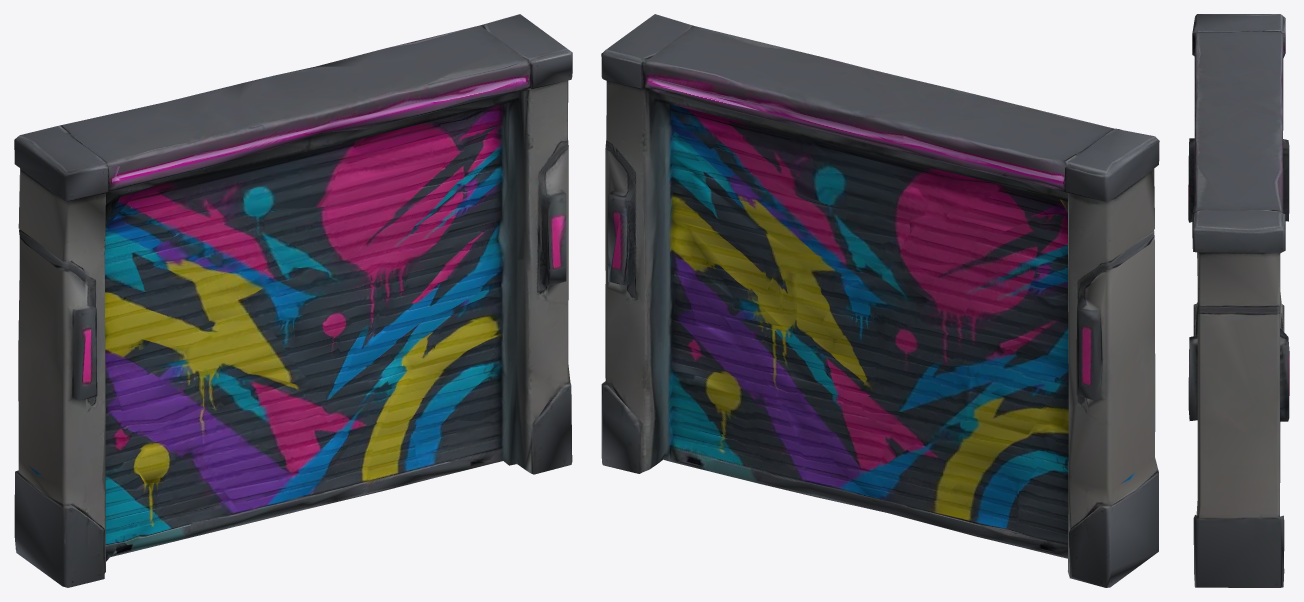
Rendered from env-shutter.glb.
3 renders of one model, left to right at view 1: azimuth 30°, elevation 25°; view 2: azimuth 150°, elevation 25°; view 3: azimuth 270°, elevation 25°, orthographic. The views are drawn at different scales.
Parts seen in each view (by area): view 1: env-shutter; view 2: env-shutter; view 3: env-shutter.
Part boxes in pixels (left/top/right/bottom): env-shutter: left=14, top=14, right=572, bottom=587; env-shutter: left=601, top=14, right=1159, bottom=587; env-shutter: left=1188, top=14, right=1289, bottom=587.
Size of the model in its own units: 8.2 by 6.39 by 1.63.
1 material, 1 textured.
